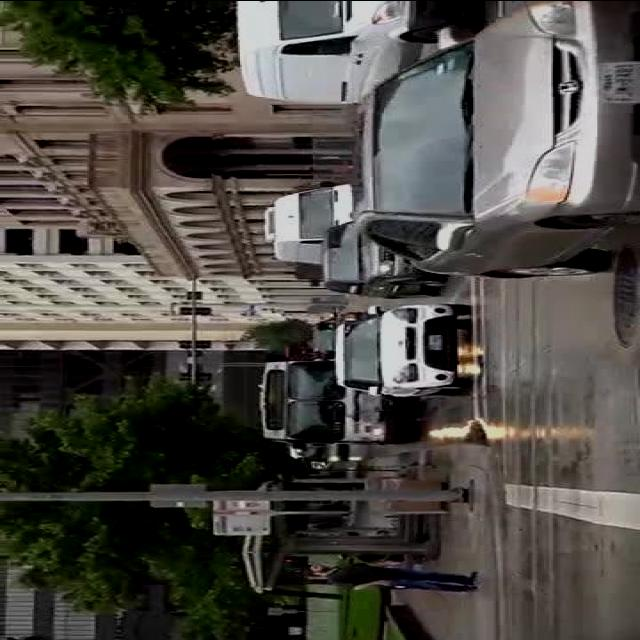bus: (260, 351, 414, 451)
